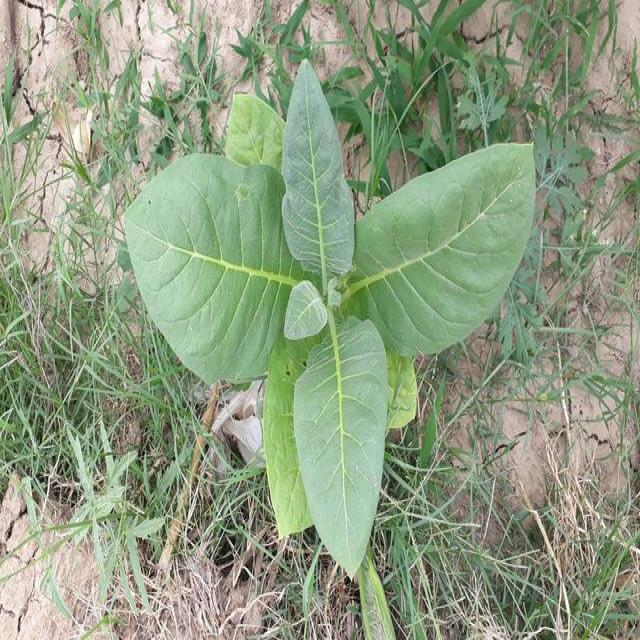crop: (142, 68, 538, 534)
